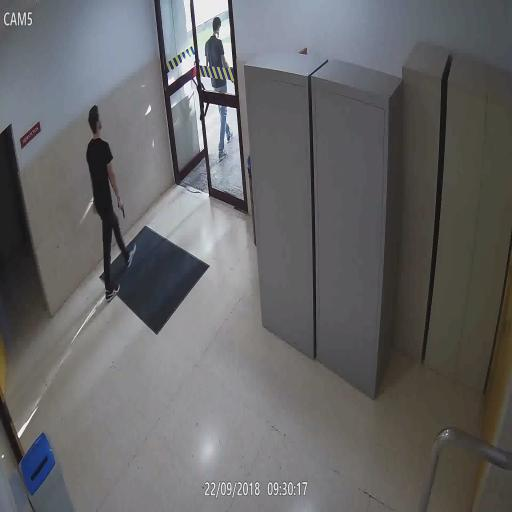Handgun: (117, 196, 126, 221)
